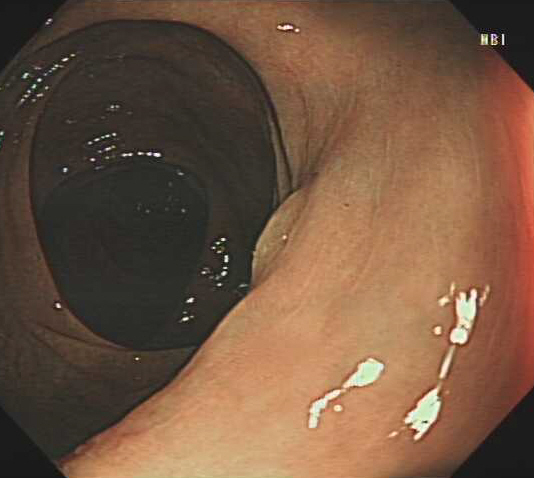others: (248, 184, 311, 296)
